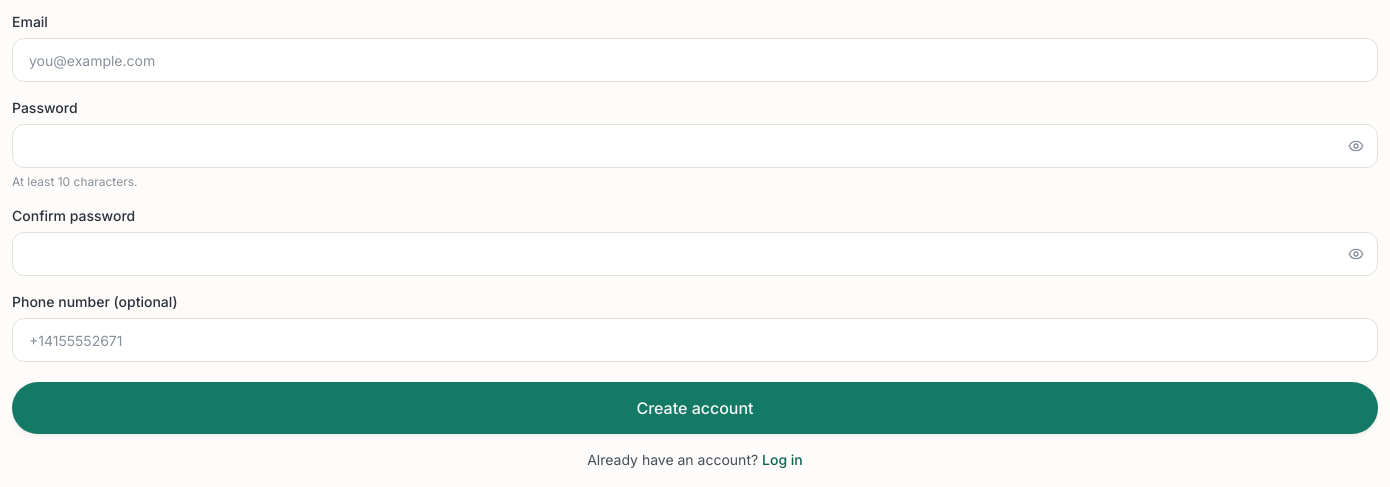
SignupForm › sends exactly one /register request even when the form is submitted twice before the first response lands
The image size is (1390, 487).
Type "user@example.com" into the field labelled "Email" at point(695, 60), box [12,38,1378,82]
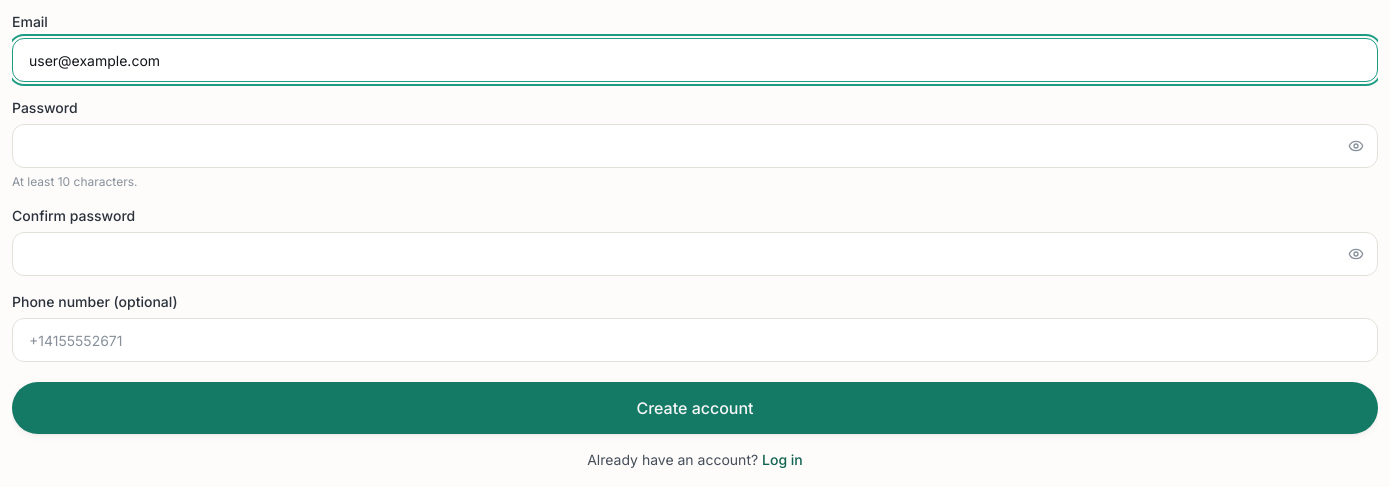
Type "longenoughpassword" into the password field labelled "Password" at point(695, 146), box [12,124,1378,168]
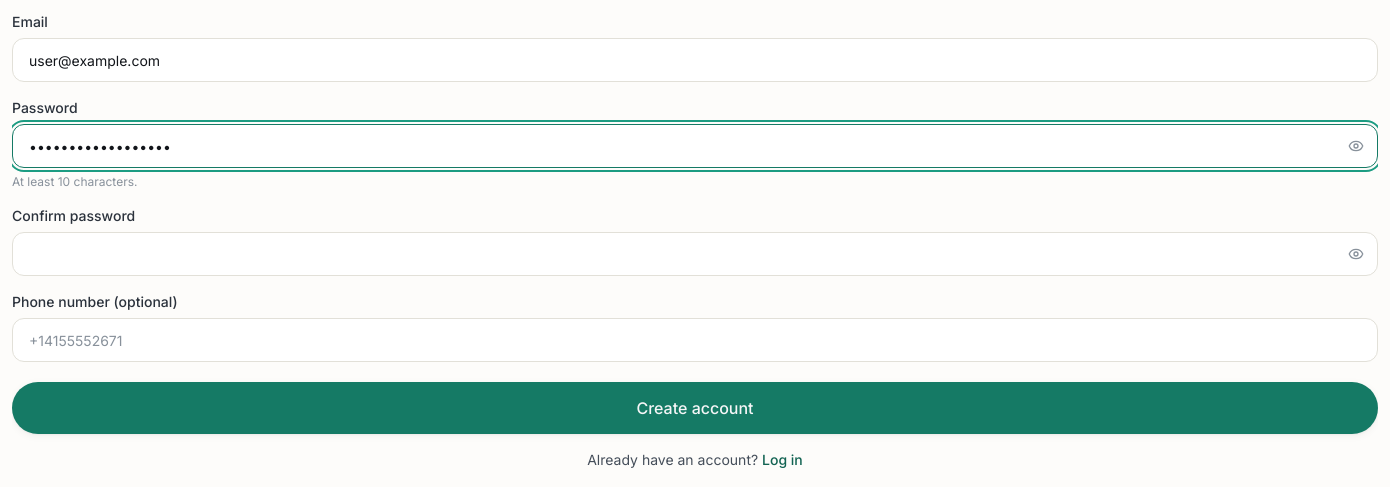
Type "longenoughpassword" into the password field labelled "Confirm password" at point(695, 254), box [12,232,1378,276]
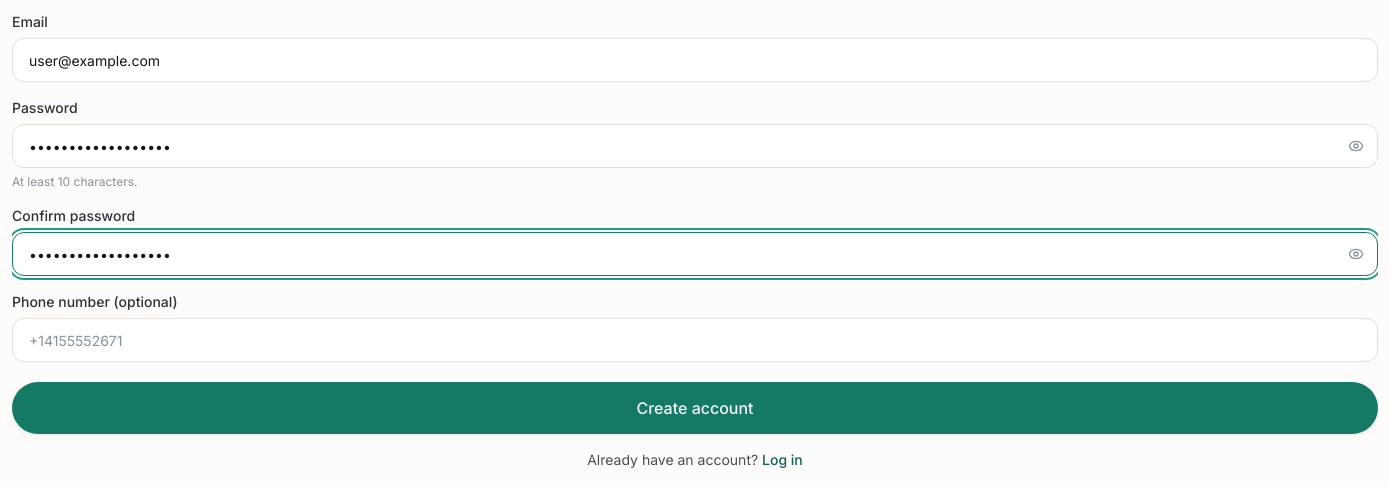
Submit the form named "create account"
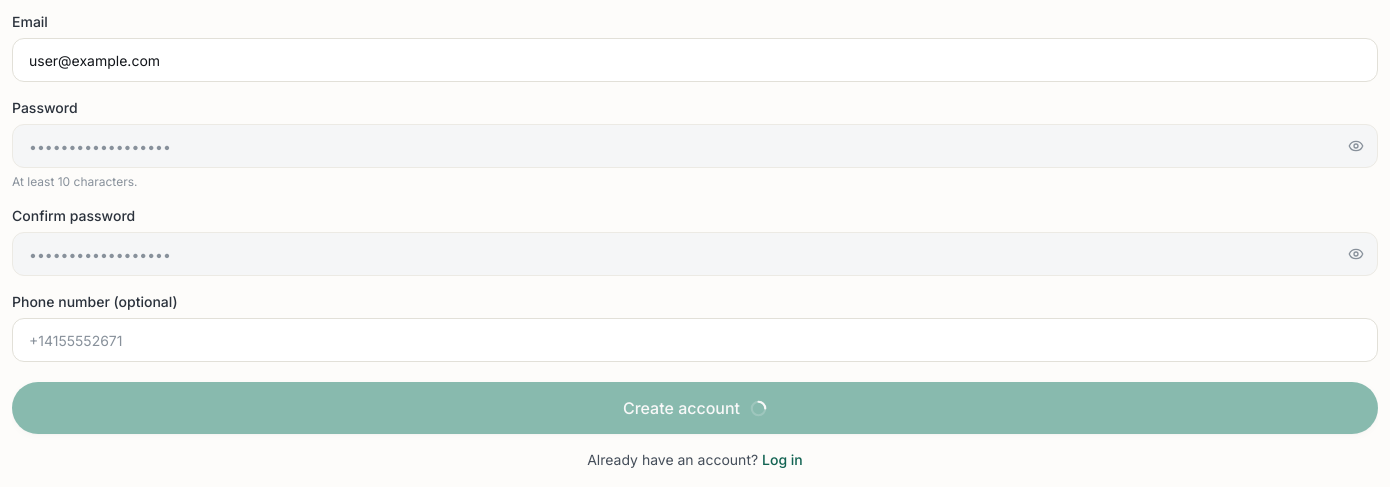
Submit the form named "create account"
Submit the form named "create account"
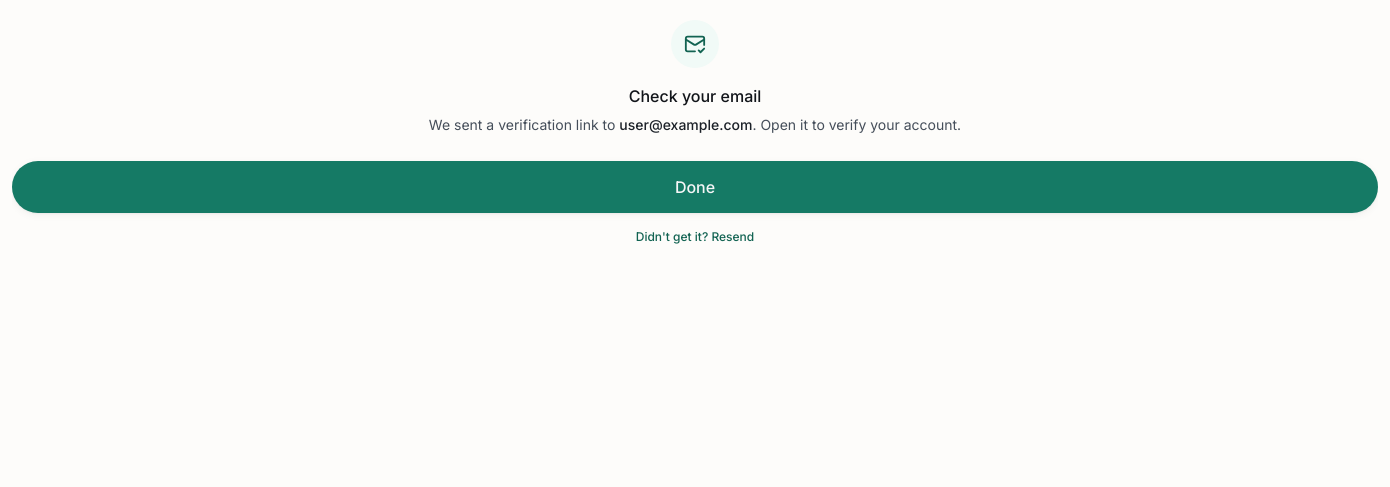
Now the text "Check your email" is shown, box [629,86,761,106]
